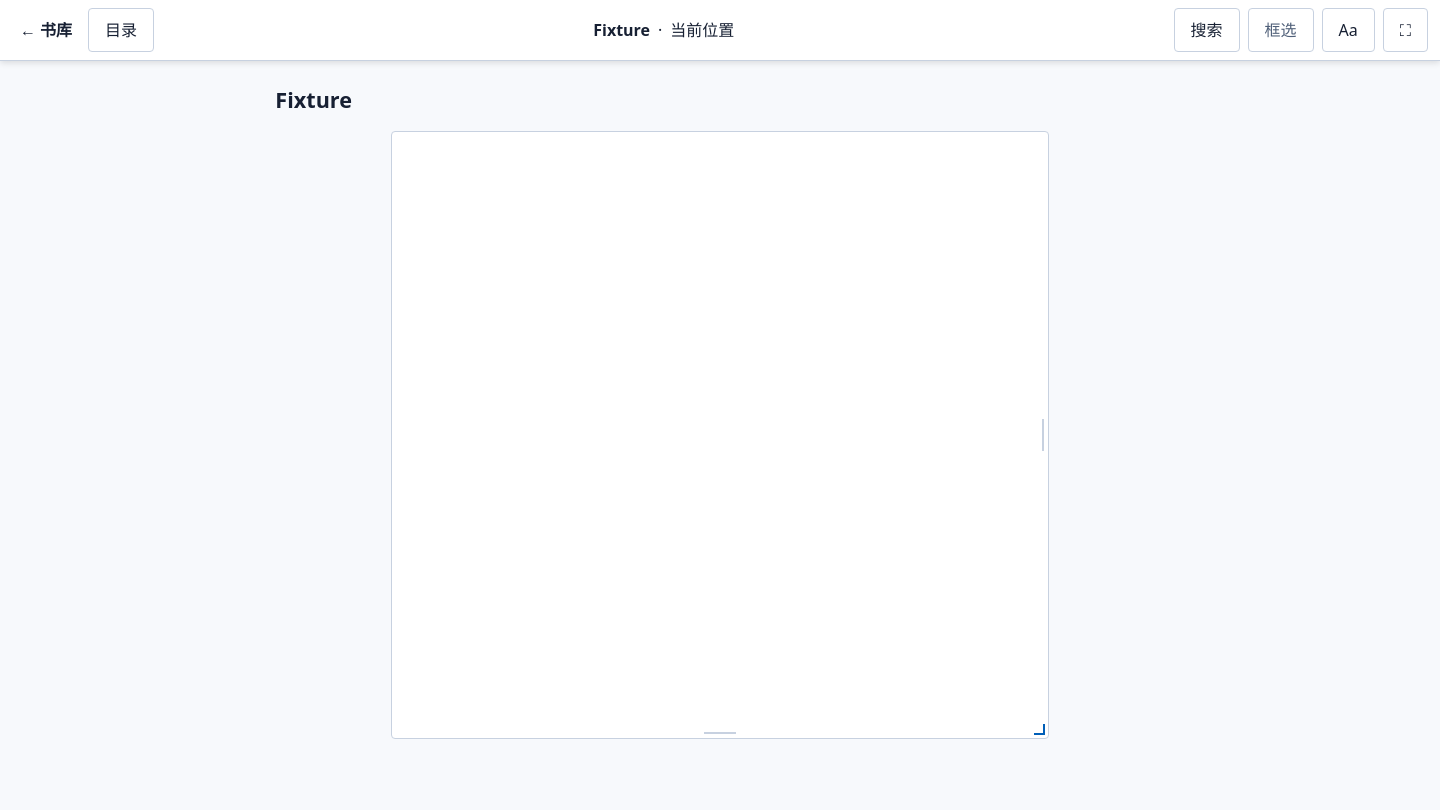
ReaderLayout › moves focus after a contents jump without scrolling the outer reader
Click the button "目录": [121, 30] box [88, 8, 154, 52]
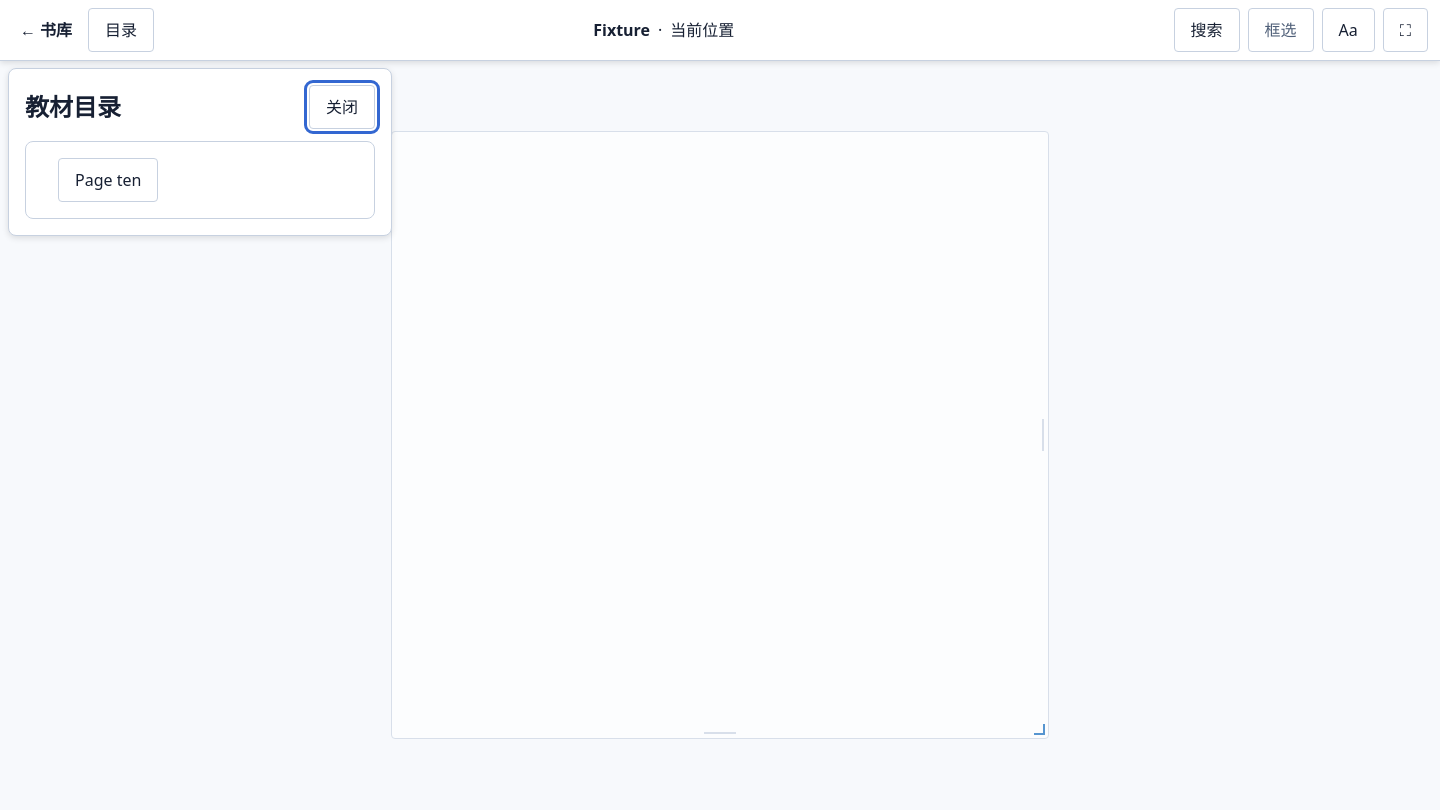
Click the button "Page ten": [108, 180] box [58, 158, 158, 202]
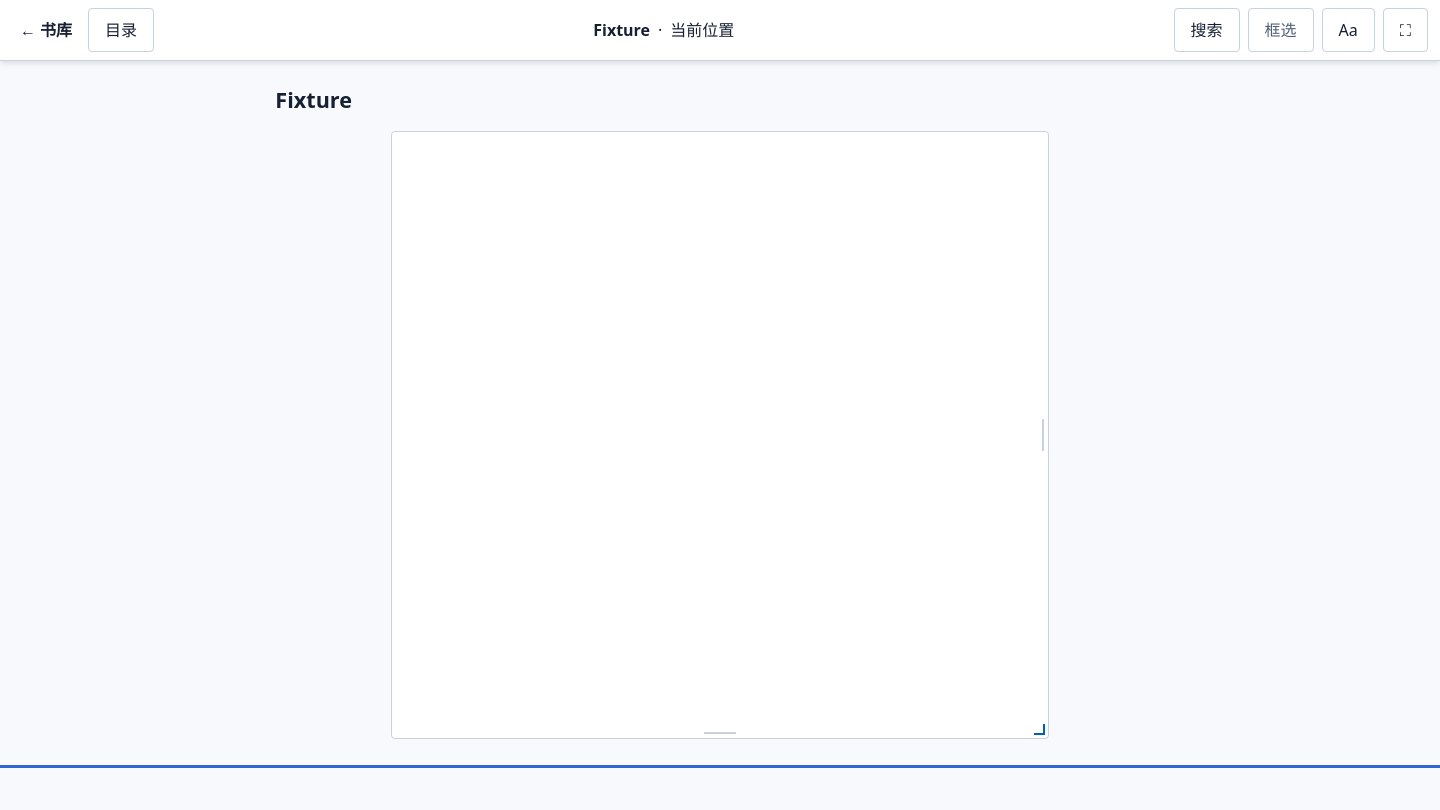
Expected: the dialog is gone
